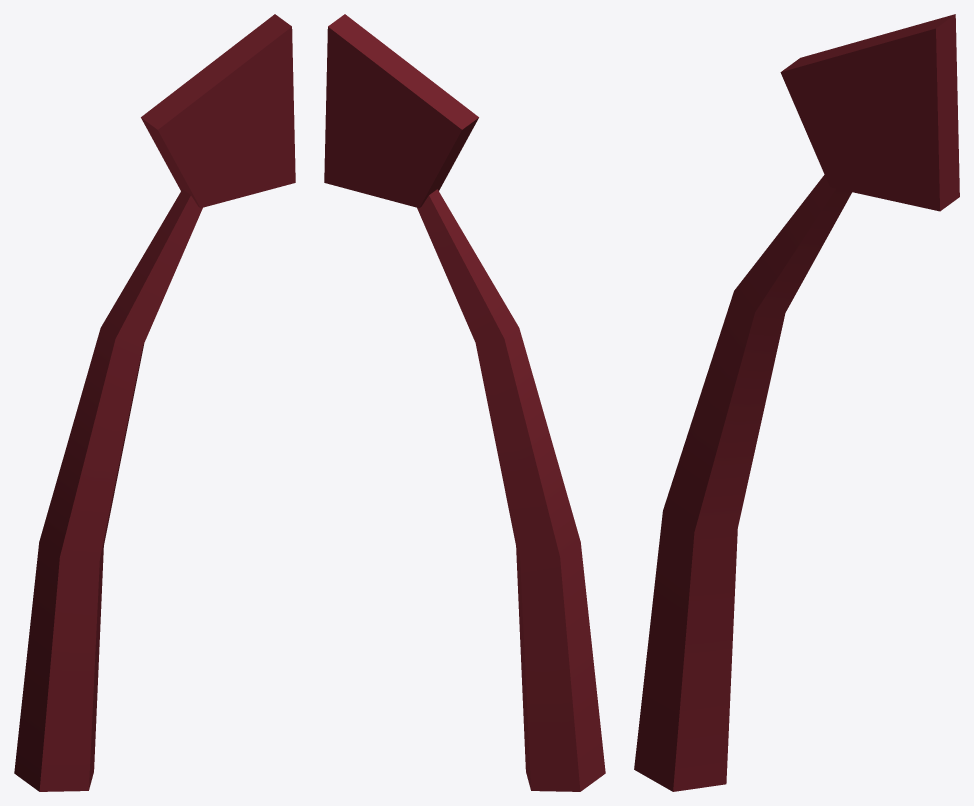
Rendered from dressing_tail_tip.glb.
The picture shows the model from 3 angles, left to right: view 1: azimuth 30°, elevation 25°; view 2: azimuth 150°, elevation 25°; view 3: azimuth 330°, elevation 25°; orthographic projection. The views are drawn at different scales.
Visible parts, largest first — view 1: dressing_tail_tip; view 2: dressing_tail_tip; view 3: dressing_tail_tip.
Part boxes in pixels (x1,y1,x2,y2): dressing_tail_tip: [14, 14, 295, 791]; dressing_tail_tip: [324, 14, 605, 791]; dressing_tail_tip: [634, 14, 959, 791].
Bounding box in the file's own units: 0.0615 × 0.1593 × 0.0167.
